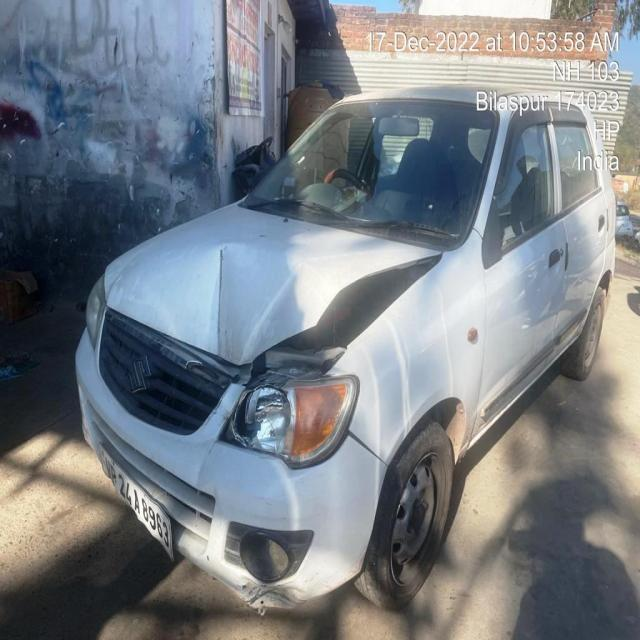damage: (196, 226, 327, 366), (235, 380, 347, 459), (197, 393, 221, 488), (238, 582, 300, 615)
